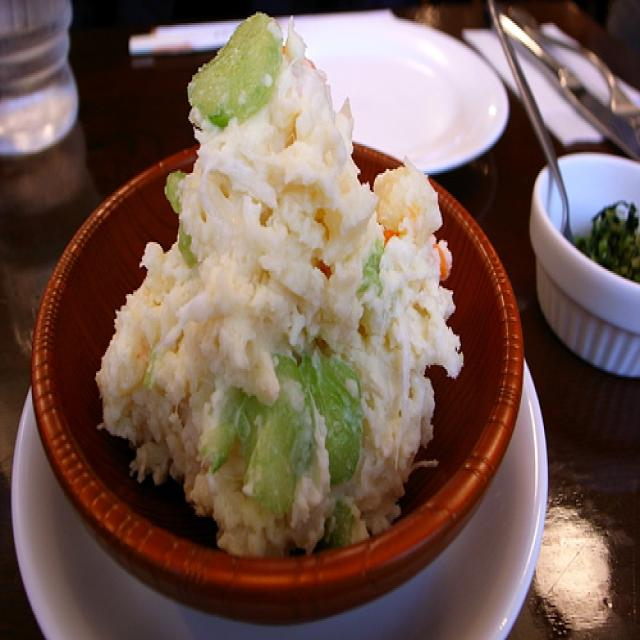蔬菜料理: (24, 4, 532, 632)
